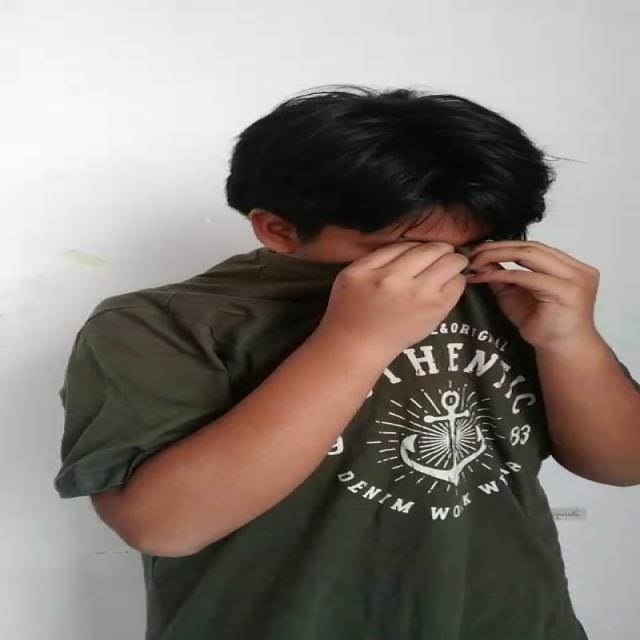8_ropa_rostro: (176, 250, 594, 380)
